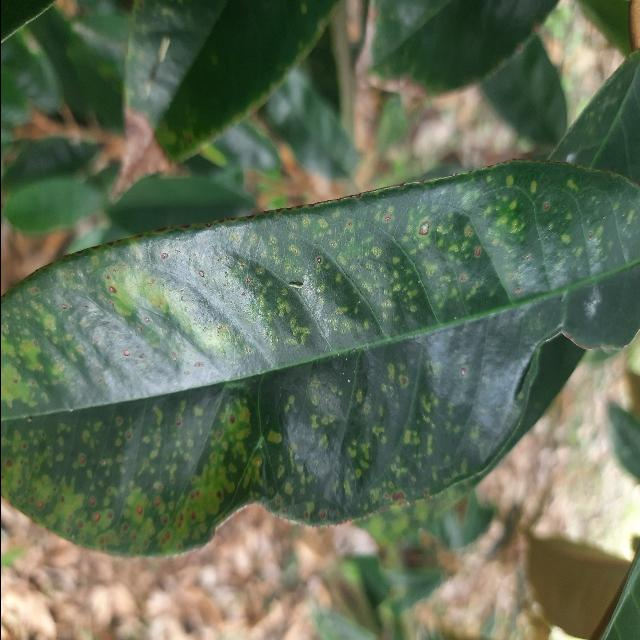Leaf Spot: (0, 145, 640, 570)
